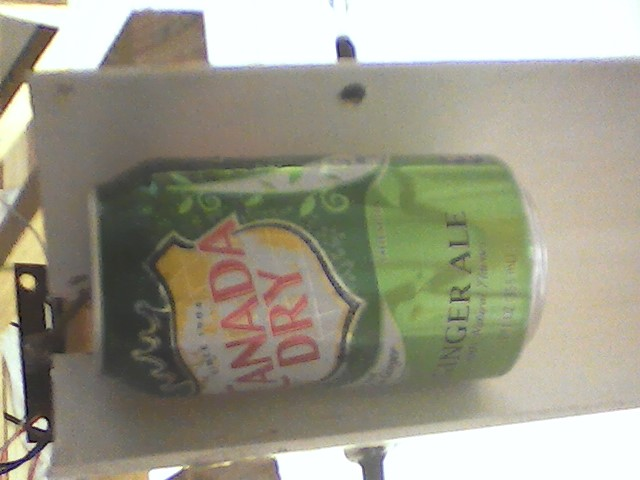lata: (82, 146, 553, 405)
